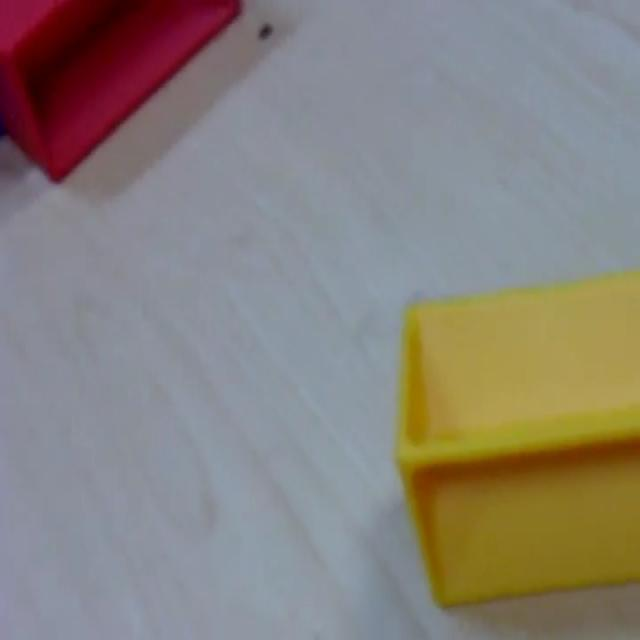red_block: (0, 0, 242, 183)
yellow_block: (394, 267, 638, 608)
